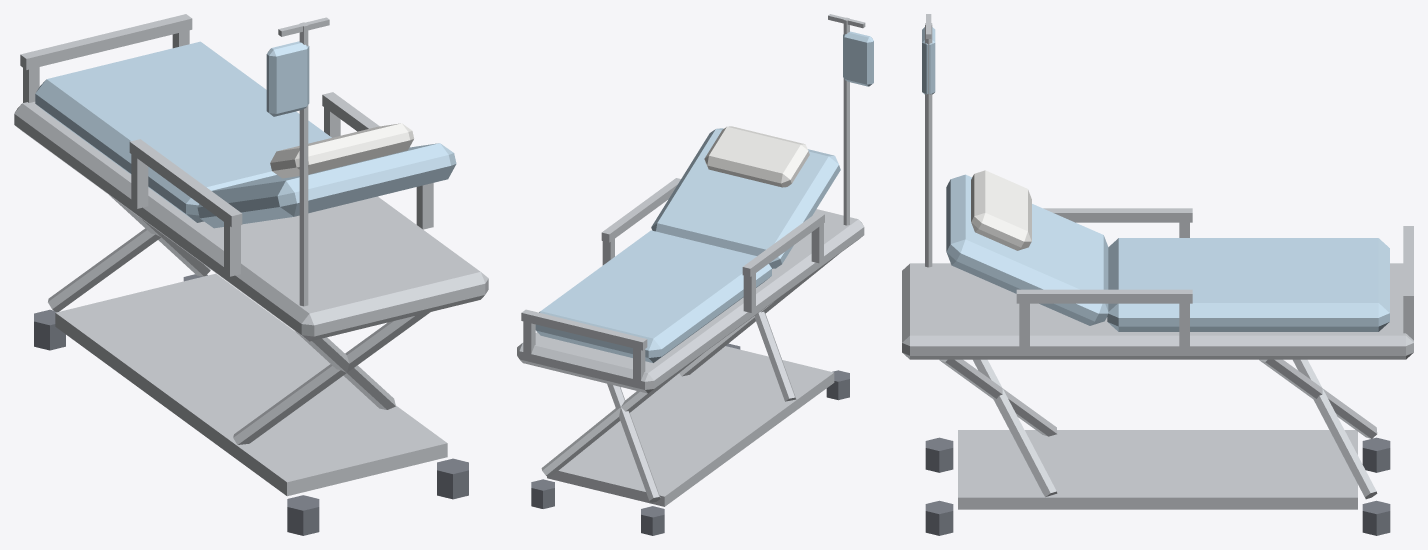
3 renders of one model, left to right at view 1: azimuth 30°, elevation 25°; view 2: azimuth 150°, elevation 25°; view 3: azimuth 270°, elevation 25°, orthographic. The views are drawn at different scales.
Parts seen in each view (by area): view 1: patient-trolley, backrest, backrest-shell; view 2: patient-trolley, backrest, backrest-shell; view 3: patient-trolley, backrest, backrest-shell.
Boxes of the visible parts, <box> form: patient-trolley: <box>14,14,488,535</box>; backrest: <box>197,143,456,228</box>; backrest-shell: <box>270,123,414,178</box>; patient-trolley: <box>517,14,873,535</box>; backrest: <box>651,128,840,268</box>; backrest-shell: <box>704,126,809,187</box>; patient-trolley: <box>902,14,1413,535</box>; backrest: <box>946,174,1108,325</box>; backrest-shell: <box>971,170,1031,250</box>.
Bounding box in the file's own units: 0.8149 × 1.82 × 1.92.
